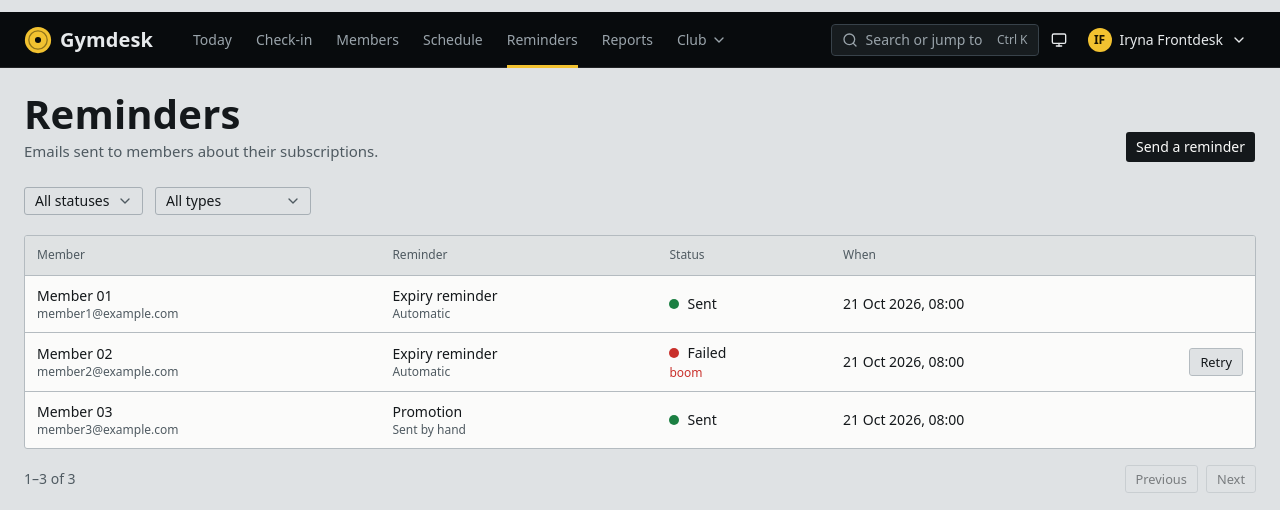
Test: filters and pages › filters by status and sends the filter to the server
The width and height of the screenshot is (1280, 510).
Expected: the heading "Reminders" is shown, 24,86 -> 241,141
Expected: the link "Member 01" is shown, 37,286 -> 113,305
Select "Failed" in the dropdown named "Status": (84, 200) 24,186 -> 143,214
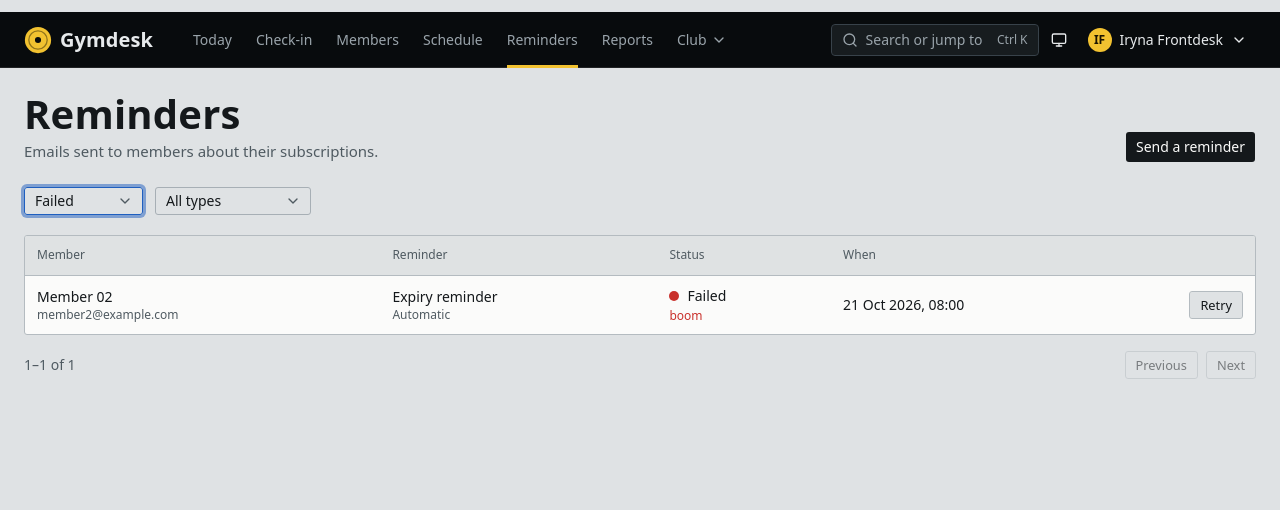
Expected: the link "Member 02" is shown, 37,287 -> 113,306
Now the link "Member 01" is gone
